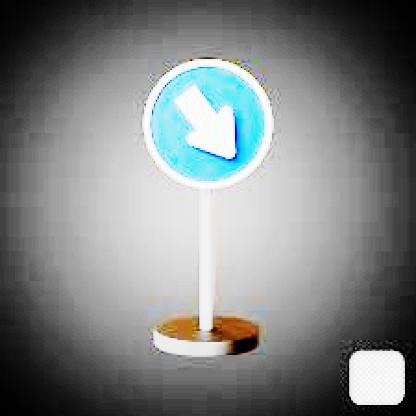Keep right: (140, 57, 276, 194)
